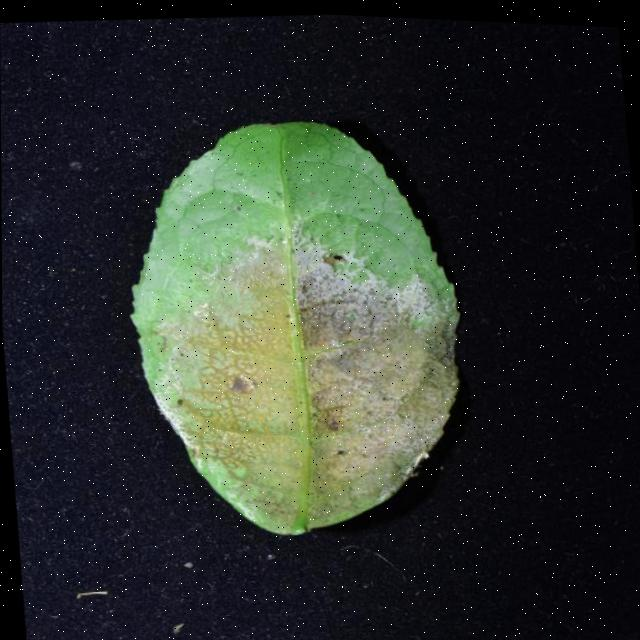Tea exobasidium blight: (149, 228, 455, 518)
